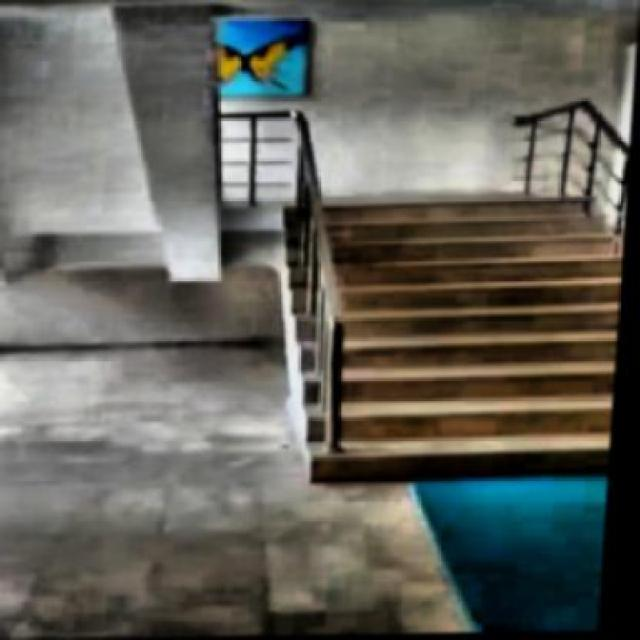stair: (257, 190, 628, 488)
